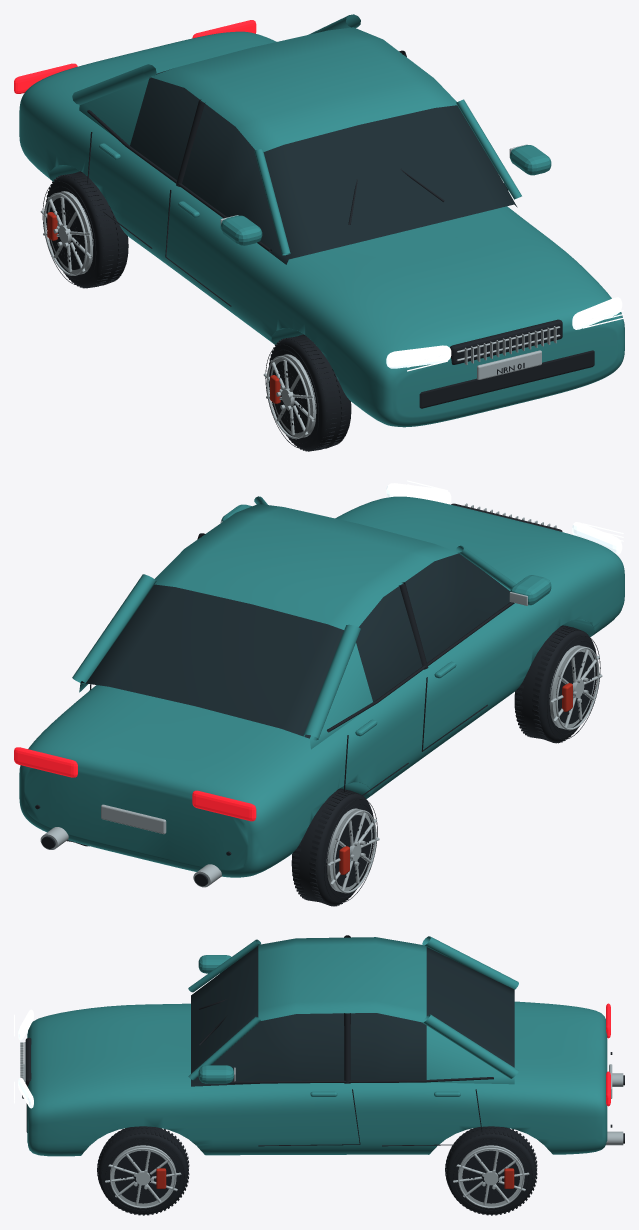
File: car-1.glb
3 renders of one model, top to bottom at view 1: azimuth 30°, elevation 25°; view 2: azimuth 150°, elevation 25°; view 3: azimuth 270°, elevation 25°, orthographic. The views are drawn at different scales.
Parts seen in each view (by area): view 1: SM_car_1_Paint, Integrated cabin, Wheel_L_Front, Wheel_L_Rear, SM_car_1_Tyres_and_trim, SM_car_1_Machined_alloy, SM_car_1_Headlight_lens, SM_car_1_Rear_LED; view 2: SM_car_1_Paint, Integrated cabin, Wheel_L_Front, Wheel_L_Rear, SM_car_1_Machined_alloy, SM_car_1_Tyres_and_trim, SM_car_1_Rear_LED, SM_car_1_Headlight_lens; view 3: SM_car_1_Paint, Integrated cabin, Wheel_R_Rear, Wheel_R_Front, SM_car_1_Tyres_and_trim, SM_car_1_Machined_alloy, SM_car_1_Headlight_lens.
Boxes of the visible parts, x1,y1,x2,y2 form: SM_car_1_Paint: (19, 14, 624, 427); Integrated cabin: (79, 27, 517, 264); Wheel_L_Front: (265, 334, 351, 451); Wheel_L_Rear: (42, 171, 128, 288); SM_car_1_Tyres_and_trim: (87, 50, 594, 408); SM_car_1_Machined_alloy: (40, 144, 560, 434); SM_car_1_Headlight_lens: (386, 297, 623, 371); SM_car_1_Rear_LED: (14, 20, 256, 93); SM_car_1_Paint: (19, 496, 624, 877); Integrated cabin: (79, 504, 514, 749); Wheel_L_Front: (514, 625, 600, 743); Wheel_L_Rear: (291, 788, 377, 906); SM_car_1_Machined_alloy: (40, 503, 602, 890); SM_car_1_Tyres_and_trim: (35, 503, 562, 886); SM_car_1_Rear_LED: (14, 747, 256, 821); SM_car_1_Headlight_lens: (386, 480, 623, 554); SM_car_1_Paint: (27, 936, 607, 1156); Integrated cabin: (191, 937, 514, 1086); Wheel_R_Rear: (445, 1126, 537, 1215); Wheel_R_Front: (97, 1126, 189, 1215); SM_car_1_Tyres_and_trim: (25, 935, 624, 1146); SM_car_1_Machined_alloy: (20, 1042, 623, 1204); SM_car_1_Headlight_lens: (14, 1009, 33, 1108).
Size of the model in its own units: 2.2 by 1.64 by 4.72.
